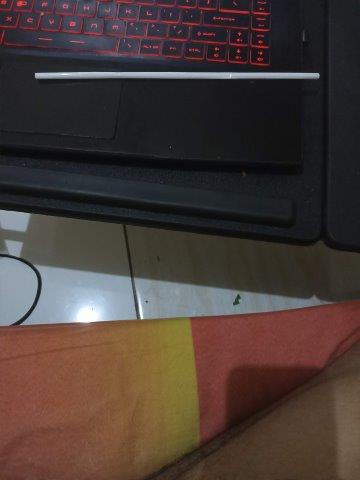sedotan: (35, 71, 319, 79)
